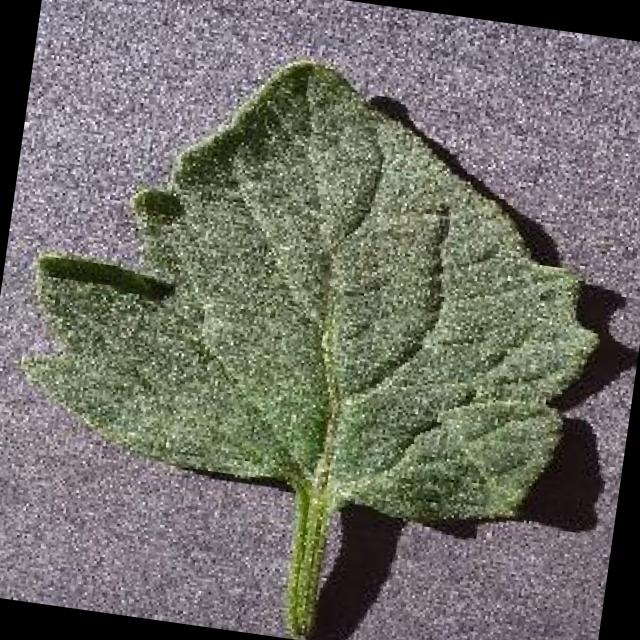Tomato_Healthy: (0, 19, 640, 553)
